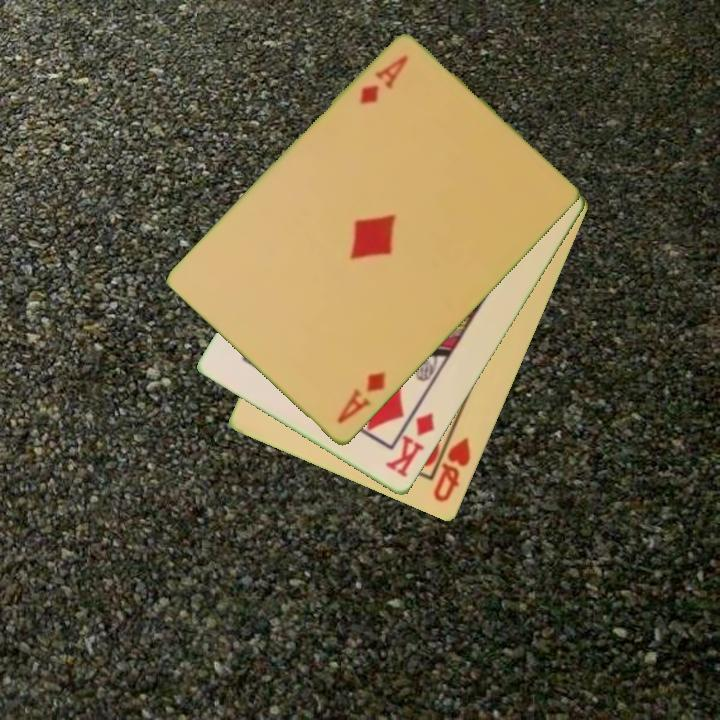Ad: (333, 368, 389, 428), (356, 51, 411, 108)
Kd: (382, 409, 438, 481)
Qh: (430, 433, 474, 506)
